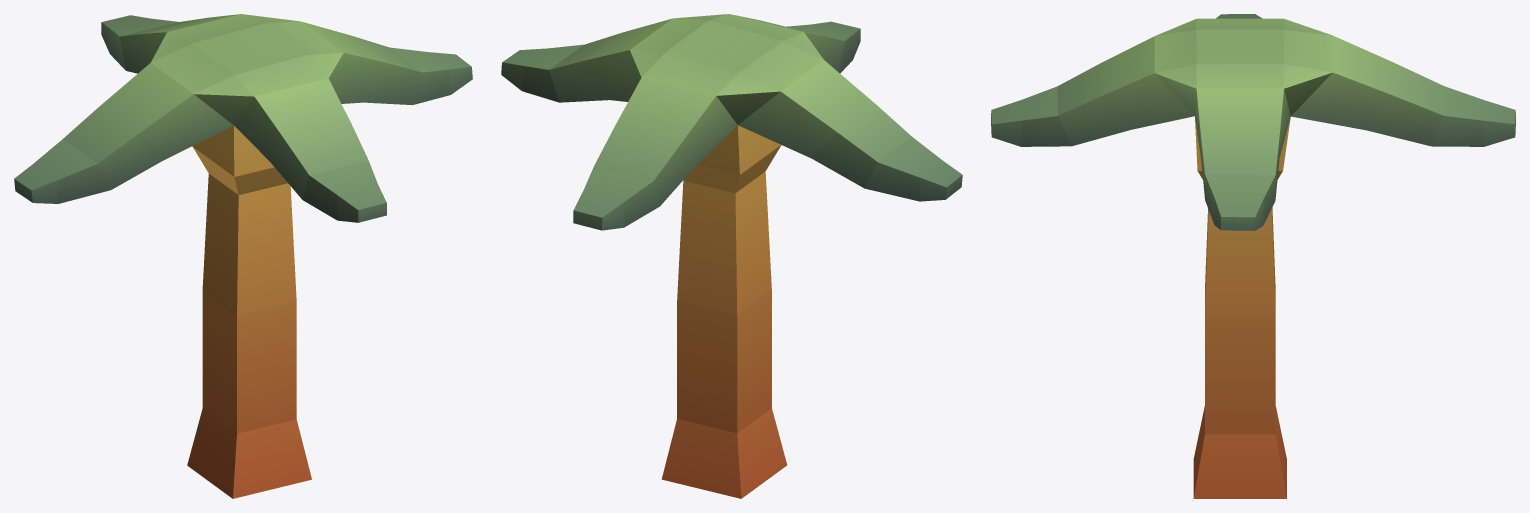
File: ItemProps_WeirdTree.fbx
3 renders of one model, left to right at view 1: azimuth 30°, elevation 25°; view 2: azimuth 150°, elevation 25°; view 3: azimuth 270°, elevation 25°, orthographic. The views are drawn at different scales.
Visible parts, largest first — view 1: Cube.046; view 2: Cube.046; view 3: Cube.046.
Part boxes in pixels (left/top/right/bottom): Cube.046: left=14, top=14, right=472, bottom=498; Cube.046: left=501, top=14, right=962, bottom=498; Cube.046: left=991, top=14, right=1515, bottom=498.
Bounding box in the file's own units: 371 × 340 × 373.
